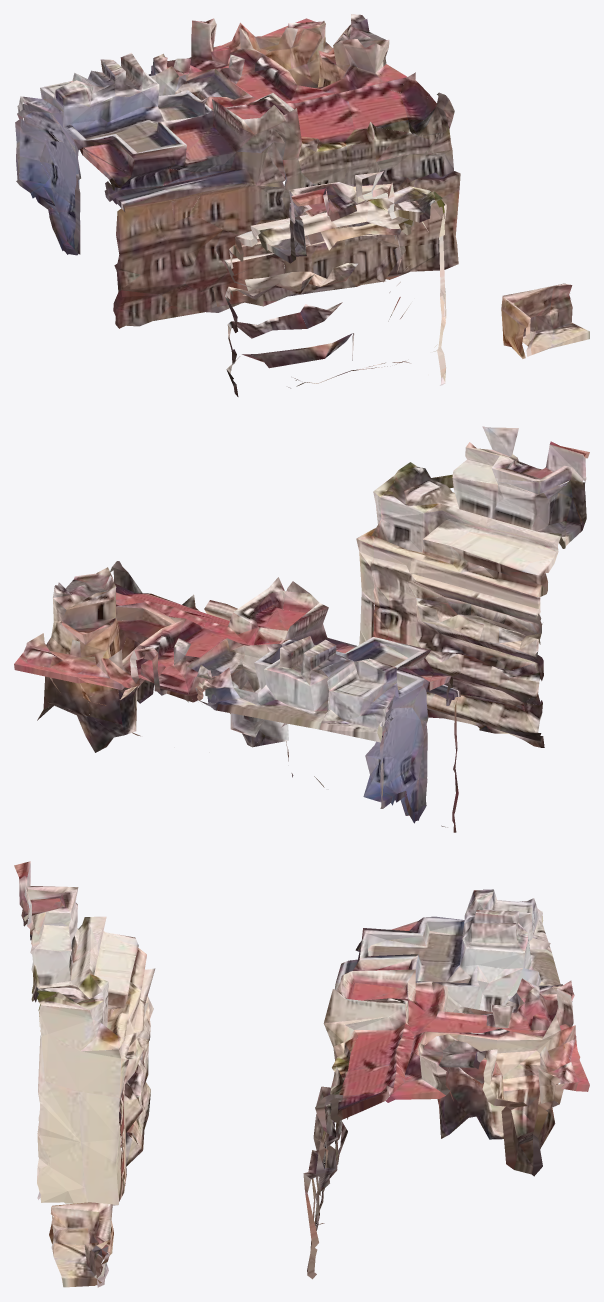
The picture shows the model from 3 angles, top to bottom: view 1: azimuth 30°, elevation 25°; view 2: azimuth 150°, elevation 25°; view 3: azimuth 270°, elevation 25°; orthographic projection. The views are drawn at different scales.
Visible parts, largest first — view 1: Mesh_0; view 2: Mesh_0; view 3: Mesh_0.
Boxes of the visible parts, left/top/right/bottom form: Mesh_0: left=15, top=14, right=589, bottom=396; Mesh_0: left=14, top=426, right=589, bottom=832; Mesh_0: left=14, top=861, right=589, bottom=1287.
Bounding box in the file's own units: 33.45 × 21.41 × 41.59.
Materials: 2 (2 with a texture image).
